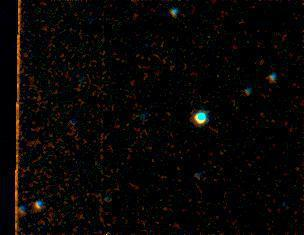star: (189, 104, 219, 134)
